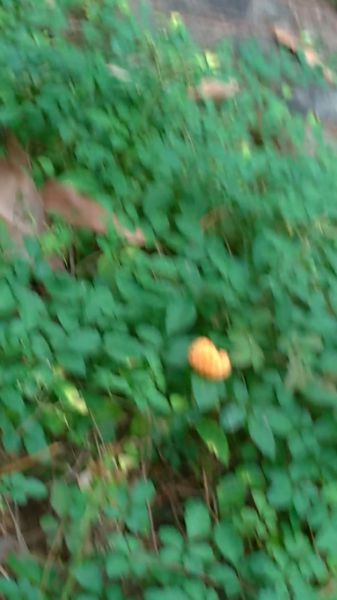eggs: (183, 332, 236, 386)
